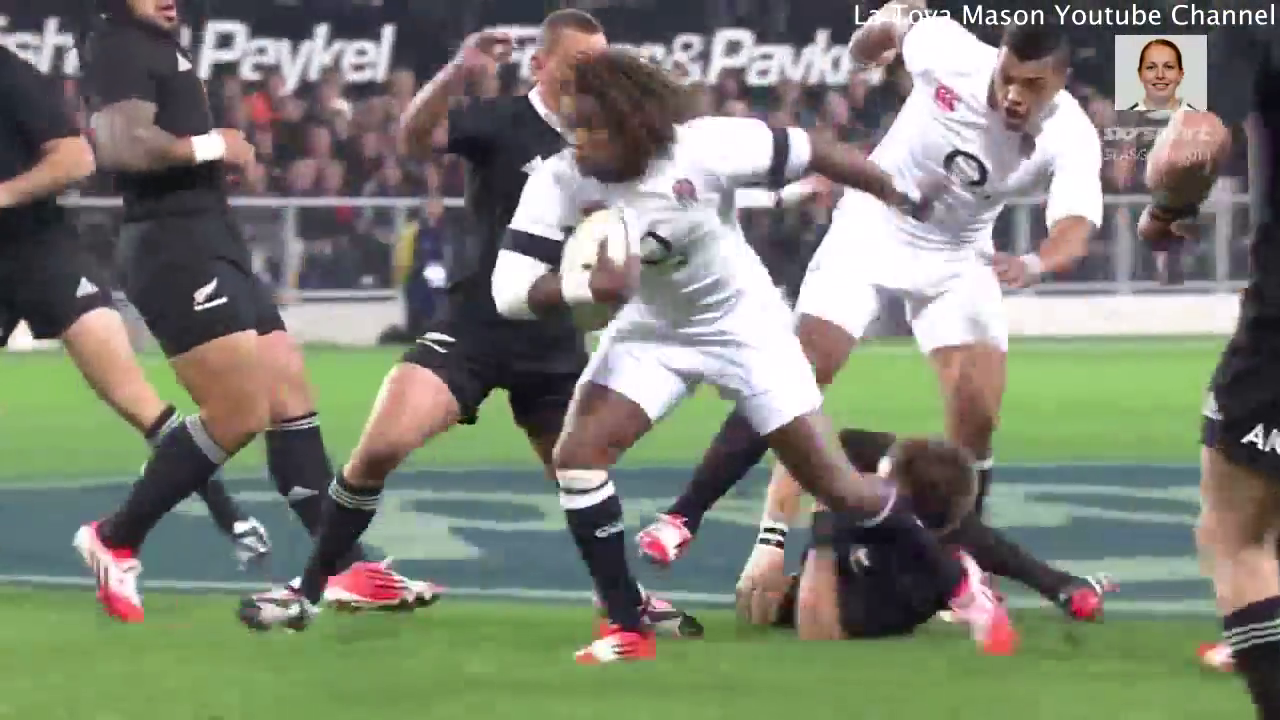ball: (518, 184, 653, 317)
player: (481, 1, 1024, 674), (621, 1, 1110, 568), (219, 5, 619, 639), (64, 1, 442, 630), (713, 412, 1129, 632)
